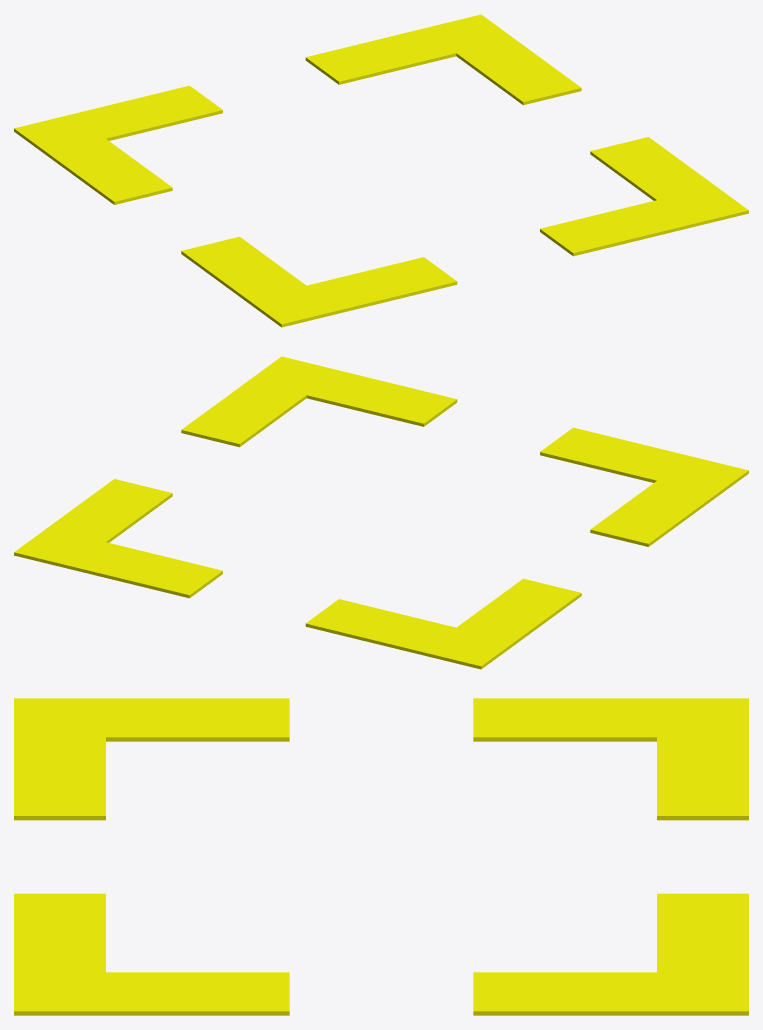
The model's file is tile_selector.glb.
3 views of the same model, one above another, from view 1: azimuth 30°, elevation 25°; view 2: azimuth 150°, elevation 25°; view 3: azimuth 270°, elevation 25° (orthographic). The views are drawn at different scales.
Parts seen in each view (by area): view 1: Cube; view 2: Cube; view 3: Cube.
Part boxes in pixels (<box>): Cube: <box>14,14,748,327</box>; Cube: <box>14,356,748,669</box>; Cube: <box>14,698,748,1015</box>.
Bounding box in the file's own units: 1.06 × 0.0069 × 1.05.
